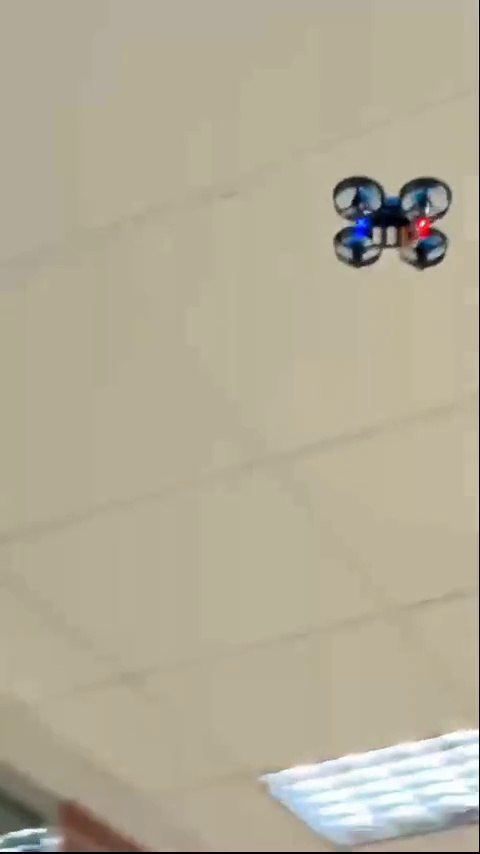drone: (328, 172, 447, 273)
